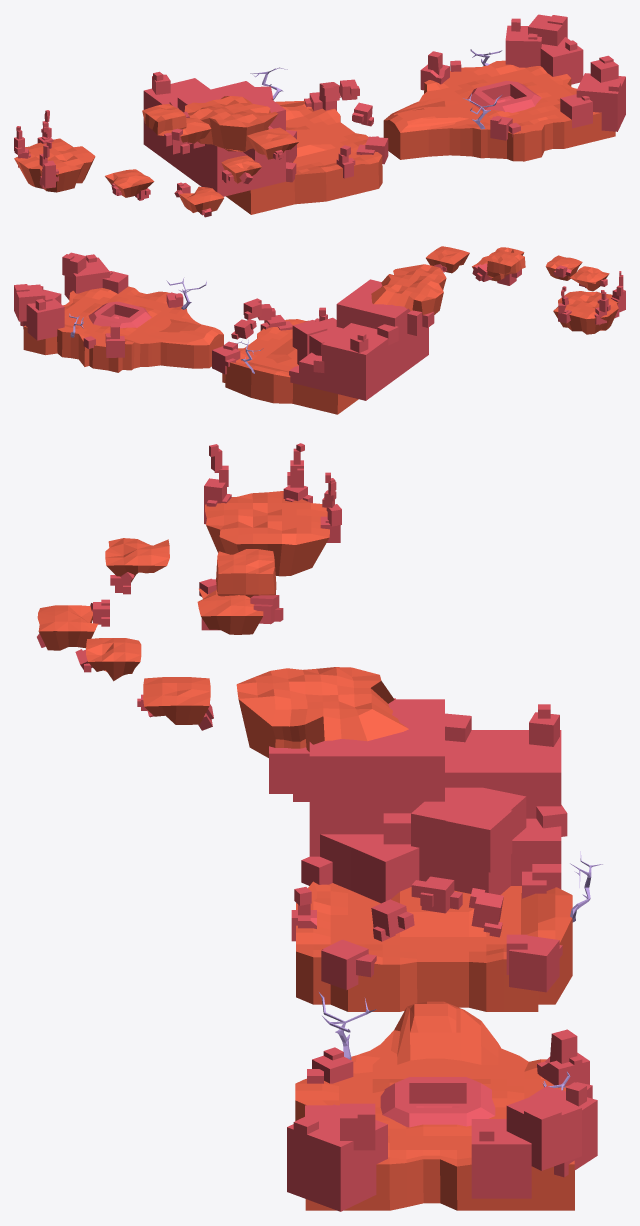
File: tutorial.glb
3 views of the same model, one above another, from view 1: azimuth 30°, elevation 25°; view 2: azimuth 150°, elevation 25°; view 3: azimuth 270°, elevation 25° (orthographic). The views are drawn at different scales.
Visible parts, largest first — view 1: L1, L3, L2Rocks, L1Rocks, L2, L3Rocks, Hole, Trees; view 2: L2Rocks, L1, L3, L2, L1Rocks, L3Rocks, Hole, Trees; view 3: L2Rocks, L3, L1, L2, L1Rocks, L3Rocks, Hole, Trees.
Part boxes in pixels (x1,y1,x2,y2): L1: [383, 60, 615, 161]; L3: [14, 96, 298, 212]; L2Rocks: [143, 71, 388, 196]; L1Rocks: [420, 14, 625, 140]; L2: [226, 100, 382, 214]; L3Rocks: [14, 110, 282, 217]; Hole: [467, 80, 541, 112]; Trees: [250, 49, 502, 129]; L2Rocks: [212, 279, 434, 400]; L1: [23, 286, 223, 372]; L3: [371, 246, 618, 334]; L2: [222, 319, 358, 414]; L1Rocks: [14, 252, 183, 357]; L3Rocks: [434, 263, 625, 325]; Hole: [88, 301, 151, 328]; Trees: [69, 277, 263, 373]; L2Rocks: [269, 698, 567, 992]; L3: [37, 491, 408, 757]; L1: [295, 1001, 574, 1210]; L2: [296, 881, 572, 1011]; L1Rocks: [287, 1029, 597, 1211]; L3Rocks: [37, 443, 341, 730]; Hole: [380, 1077, 495, 1127]; Trees: [319, 851, 602, 1090].
Size of the model in its own units: 96.3 by 23.39 by 44.31.
